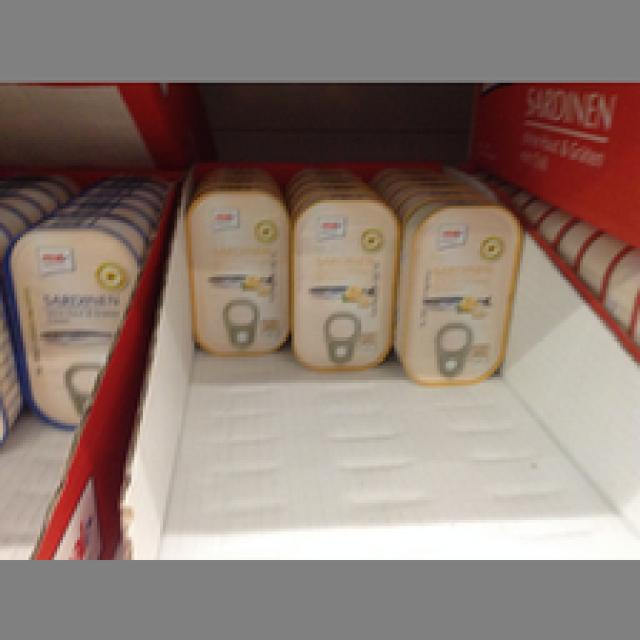groceries: (3, 214, 134, 426), (391, 197, 520, 389), (180, 186, 291, 354), (289, 194, 394, 369)
